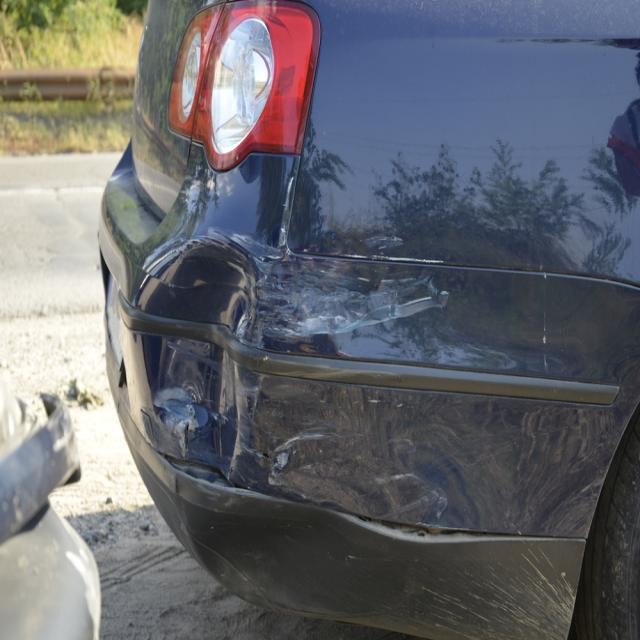dent: (132, 239, 257, 475), (193, 510, 356, 610), (272, 449, 434, 517)
scratch: (252, 251, 454, 344)
